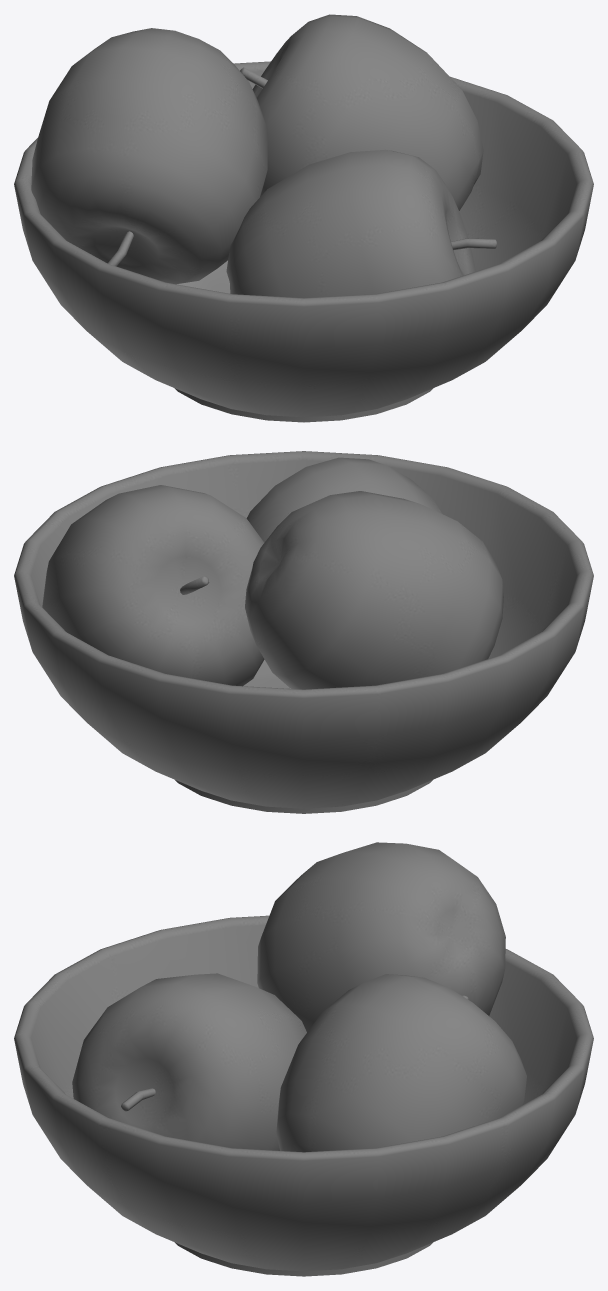
The model's file is BowlApples.fbx.
3 views of the same model, one above another, from view 1: azimuth 30°, elevation 25°; view 2: azimuth 150°, elevation 25°; view 3: azimuth 270°, elevation 25° (orthographic).
Visible parts, largest first — view 1: Apple_03_1; view 2: Apple_03_1; view 3: Apple_03_1.
Part boxes in pixels (x1,y1,x2,y2): Apple_03_1: [14, 14, 593, 422]; Apple_03_1: [14, 451, 593, 813]; Apple_03_1: [14, 842, 593, 1276].
Bounding box in the file's own units: 20.13 × 11.87 × 20.13.
1 material, 1 textured.
